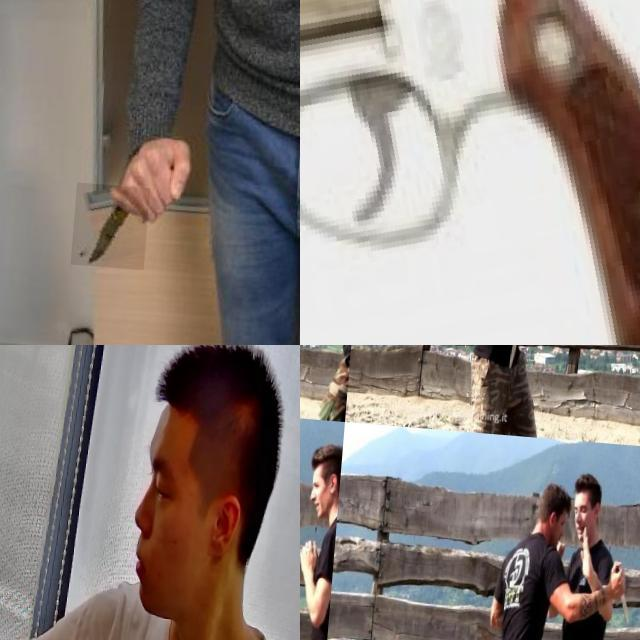-: (77, 180, 156, 266), (615, 546, 640, 614), (509, 345, 531, 384), (300, 566, 311, 640), (300, 345, 315, 384)
gun-knife-thesis - v11 Yolov5 augmented: (300, 0, 640, 345), (0, 345, 64, 533)
